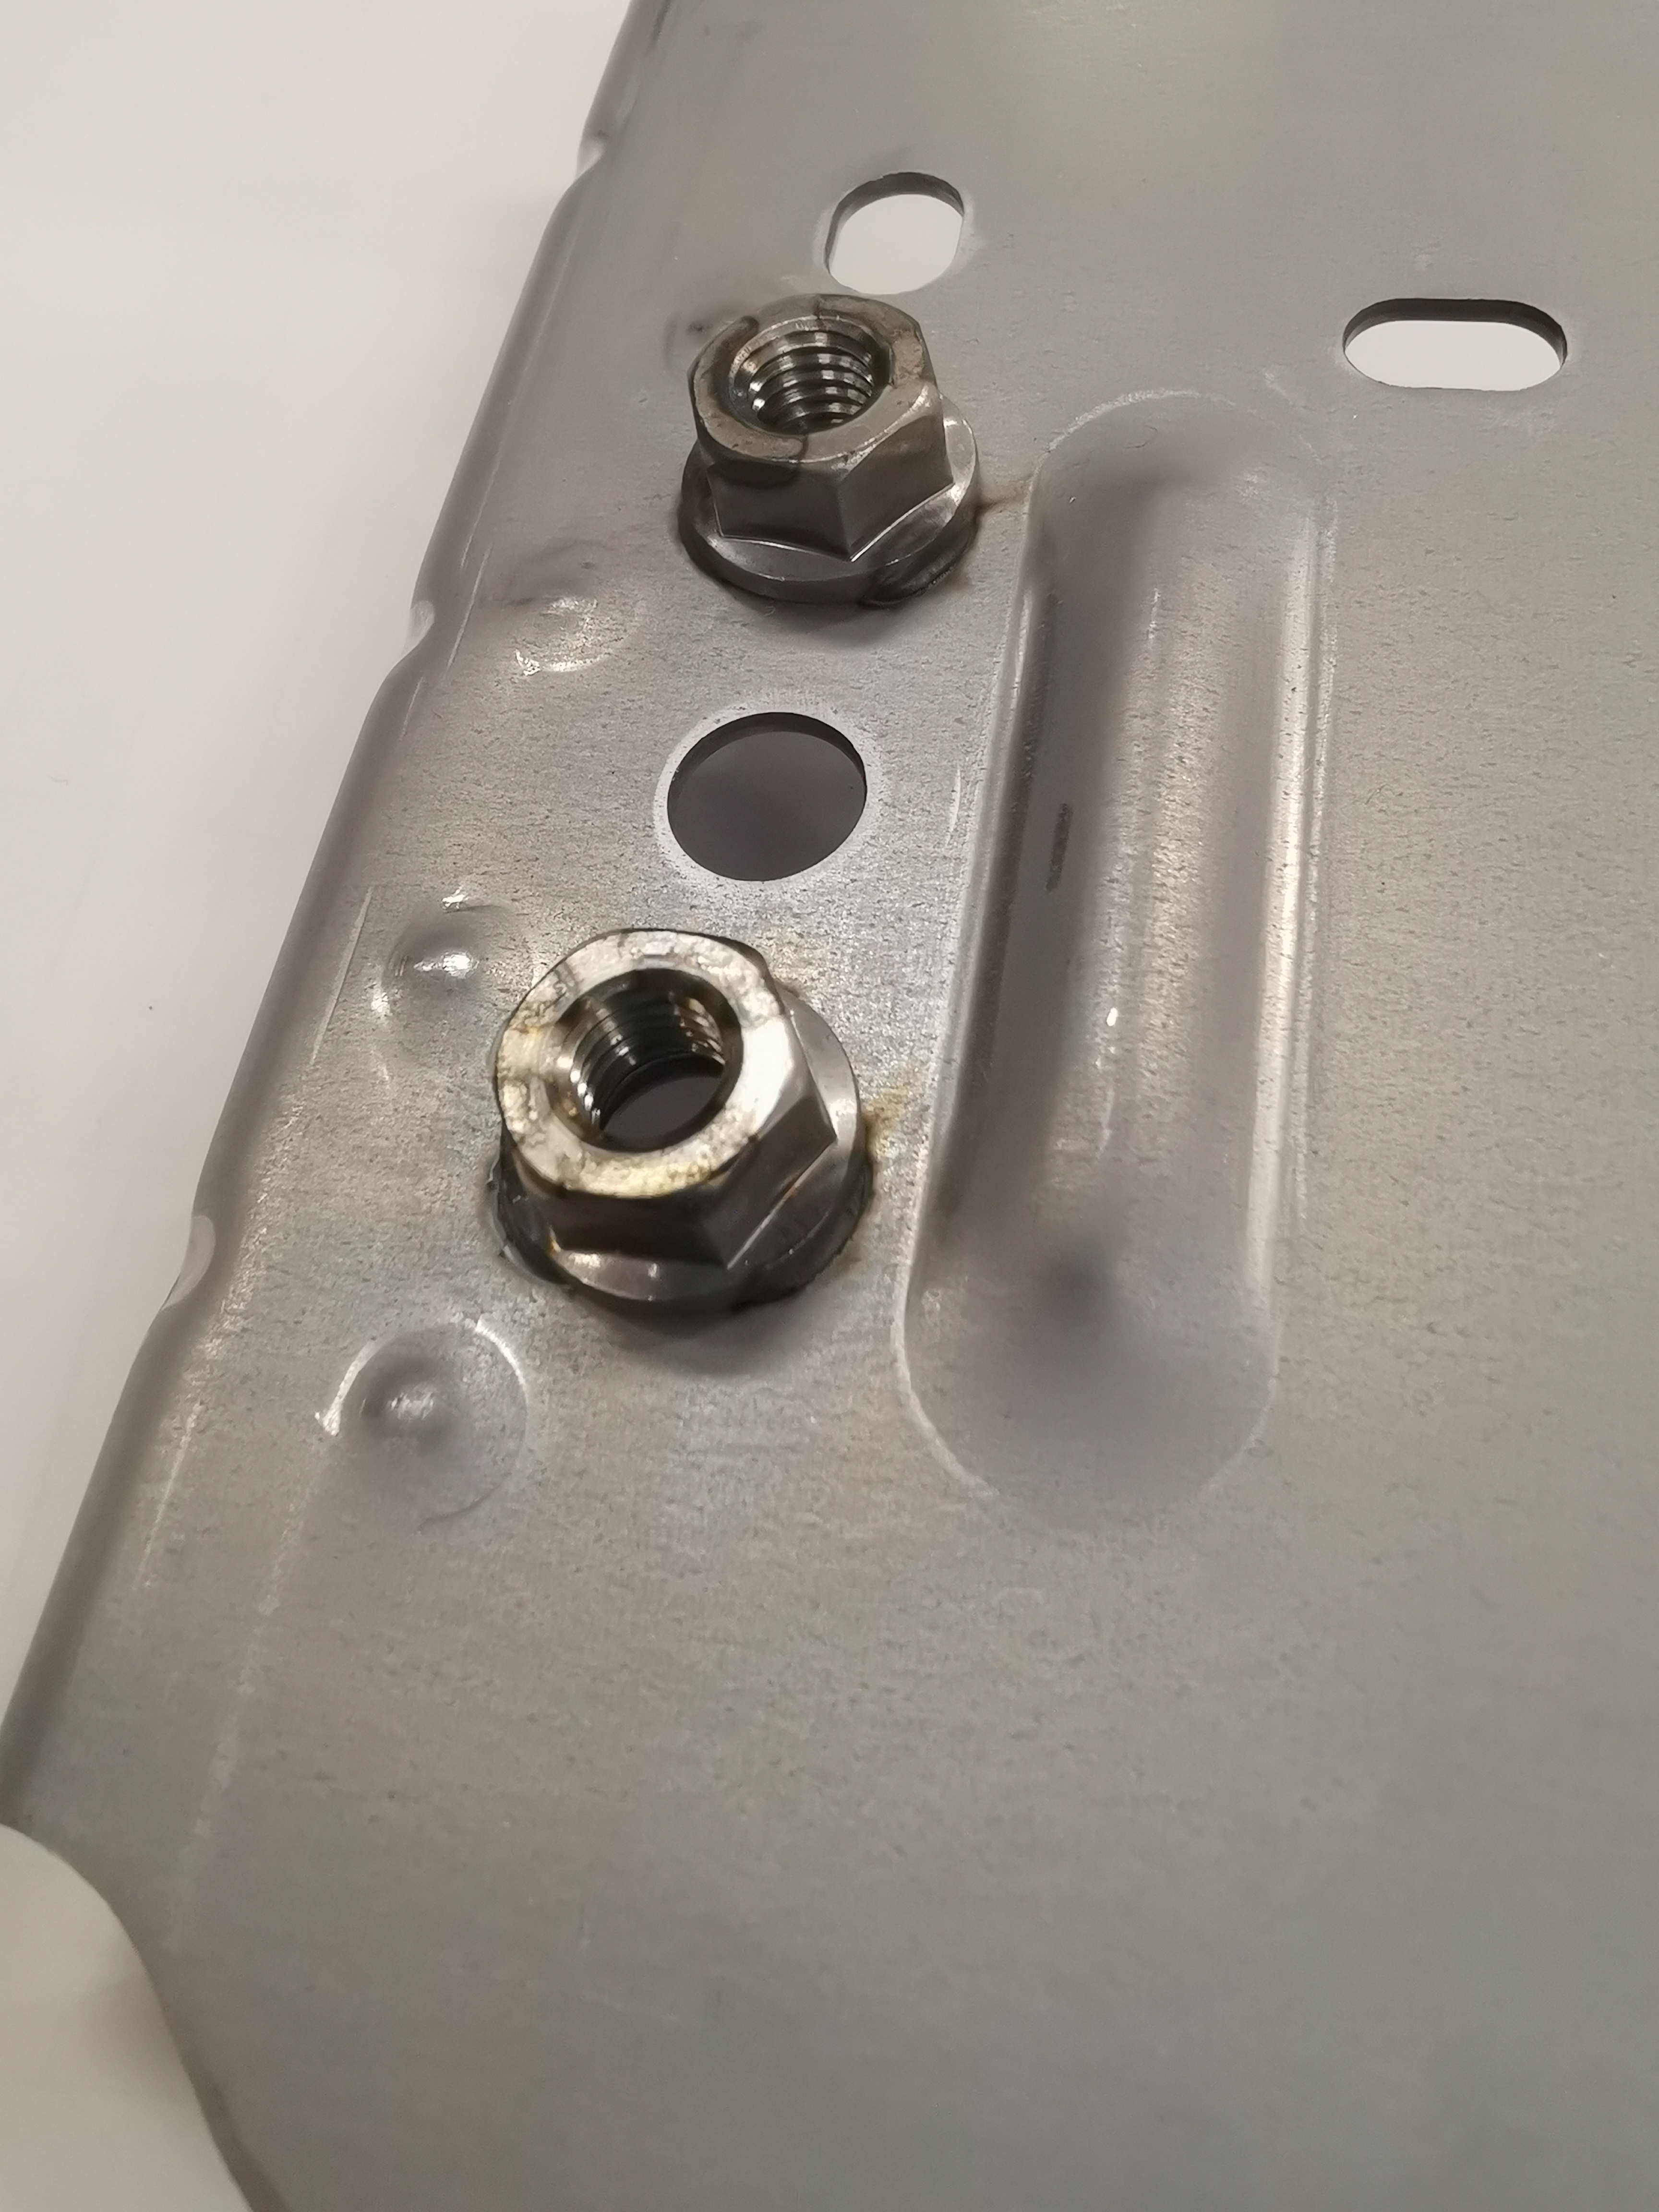dog: (483, 918, 884, 1329), (667, 286, 1000, 617)
